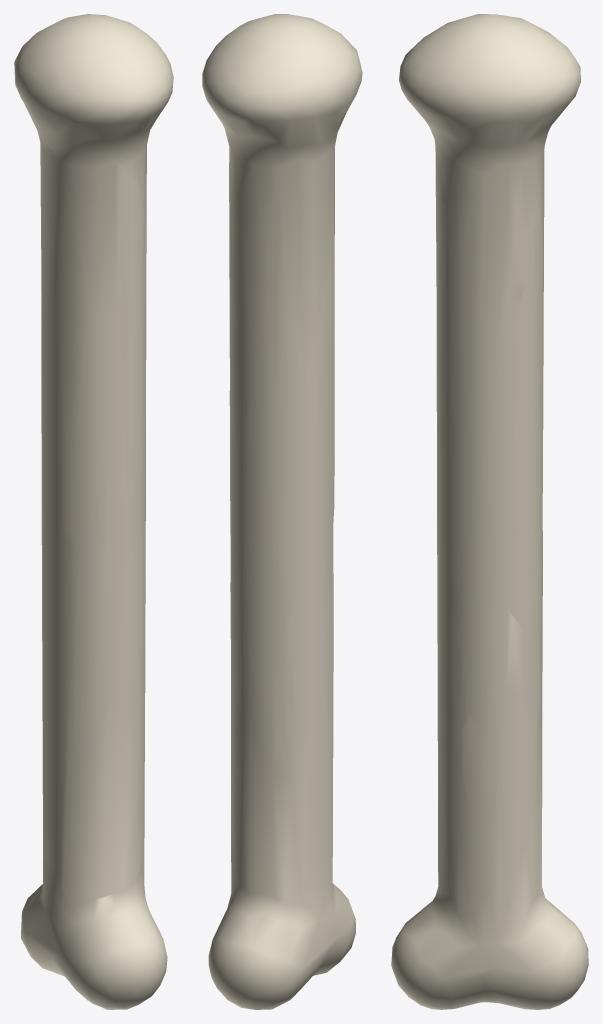
File: metacarpal_r.glb
3 renders of one model, left to right at view 1: azimuth 30°, elevation 25°; view 2: azimuth 150°, elevation 25°; view 3: azimuth 270°, elevation 25°, orthographic.
Parts seen in each view (by area): view 1: geometry_0; view 2: geometry_0; view 3: geometry_0.
Boxes of the visible parts, x1=… form: geometry_0: x1=14, y1=14, x2=173, y2=1009; geometry_0: x1=202, y1=14, x2=362, y2=1009; geometry_0: x1=391, y1=14, x2=588, y2=1009.
Size of the model in its own units: 0.0951 by 0.6598 by 0.1199.
